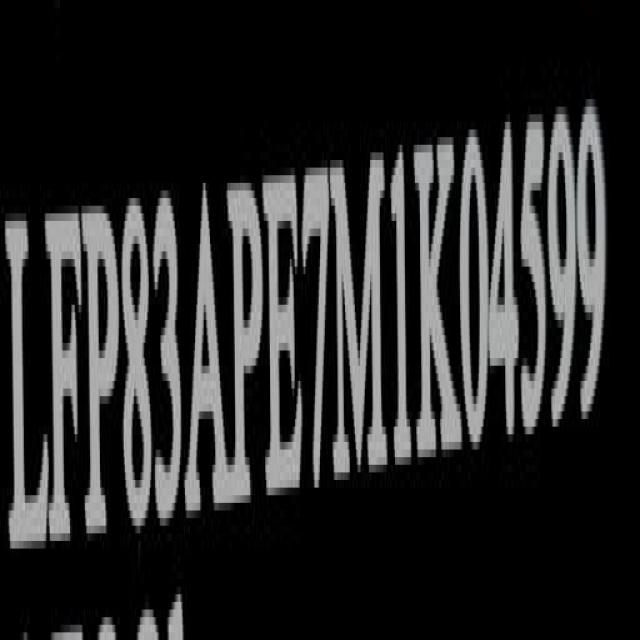0: (459, 125, 488, 464)
1: (390, 138, 413, 472)
3: (156, 193, 185, 534)
4: (489, 114, 520, 455)
5: (520, 104, 548, 446)
7: (301, 155, 330, 497)
8: (122, 195, 154, 534)
9: (578, 100, 607, 443), (550, 105, 577, 447)
A: (188, 179, 227, 524)
E: (262, 159, 303, 513)
F: (47, 200, 82, 556)
K: (417, 127, 456, 473)
L: (11, 208, 49, 562)
M: (330, 150, 382, 492)
P: (228, 170, 263, 520), (89, 202, 120, 552)
